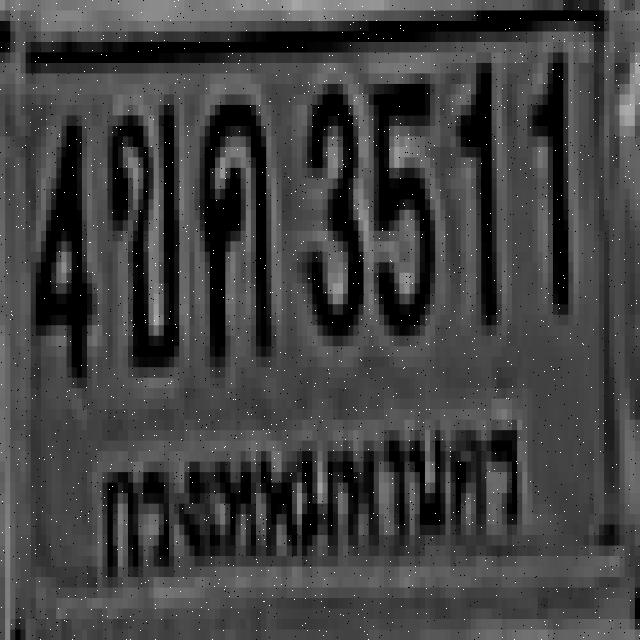1: (456, 52, 492, 326), (528, 48, 564, 310)
11KhorKhai: (102, 95, 174, 356)
13KhorKhwai: (197, 95, 269, 356)
3: (302, 74, 358, 336)
4: (31, 105, 87, 367)
5: (368, 74, 431, 326)
Bangkok: (84, 402, 548, 588)
